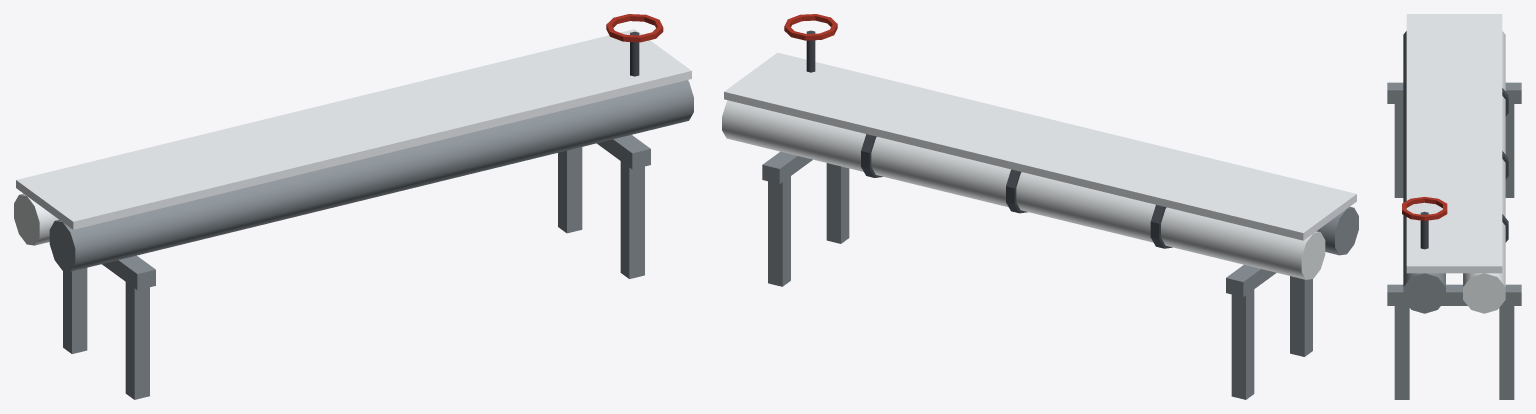
File: so_pipe_run.glb
3 renders of one model, left to right at view 1: azimuth 30°, elevation 25°; view 2: azimuth 150°, elevation 25°; view 3: azimuth 270°, elevation 25°, orthographic. The views are drawn at different scales.
Visible parts, largest first — view 1: so_pipe_run; view 2: so_pipe_run; view 3: so_pipe_run.
Part boxes in pixels (left/top/right/bottom): so_pipe_run: left=14, top=14, right=693, bottom=399; so_pipe_run: left=722, top=14, right=1358, bottom=399; so_pipe_run: left=1387, top=14, right=1521, bottom=399.
Size of the model in its own units: 4 by 1.45 by 0.9.
